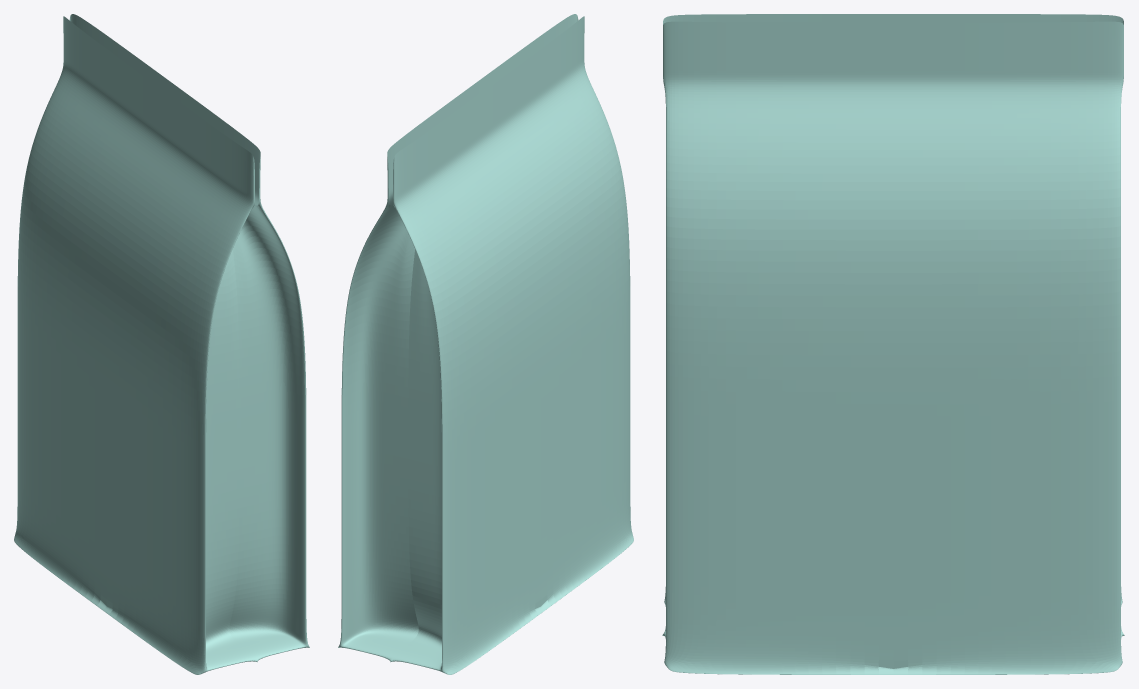
File: salt_pack.fbx
3 renders of one model, left to right at view 1: azimuth 30°, elevation 25°; view 2: azimuth 150°, elevation 25°; view 3: azimuth 270°, elevation 25°, orthographic. The views are drawn at different scales.
Parts seen in each view (by area): view 1: salt_pack.001; view 2: salt_pack.001; view 3: salt_pack.001.
Part boxes in pixels (box(x1,y1,x2,y2)): salt_pack.001: box(14, 14, 309, 674); salt_pack.001: box(338, 14, 633, 674); salt_pack.001: box(662, 14, 1124, 674).
Bounding box in the file's own units: 48.37 × 200 × 135.
